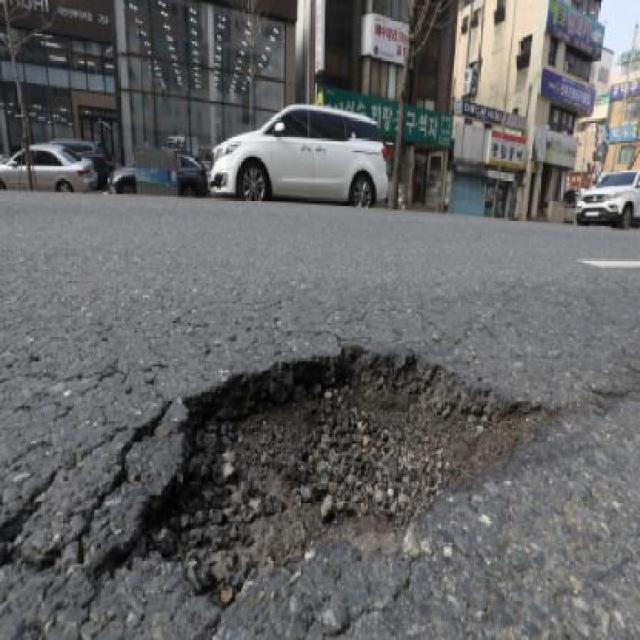Pothole: (116, 326, 552, 605)
